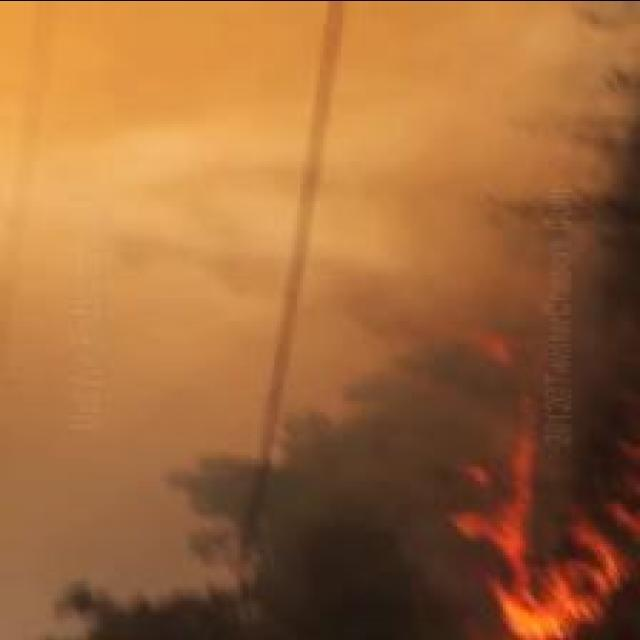Fire: (448, 394, 634, 640)
